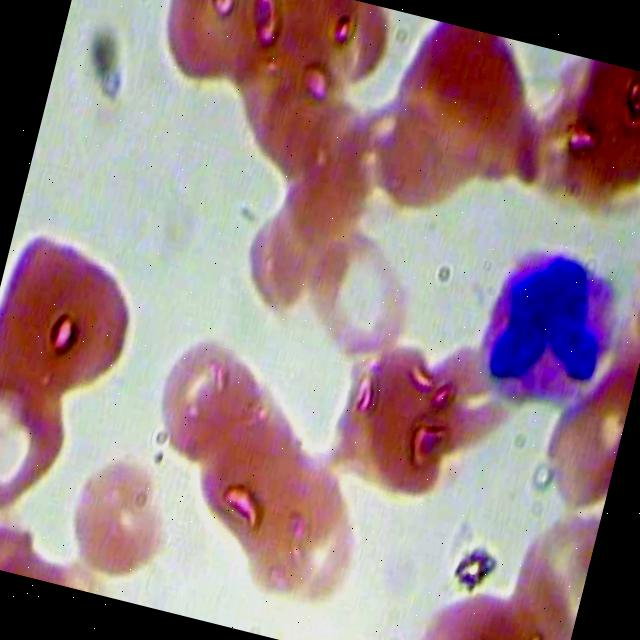RBC: (0, 214, 153, 398), (352, 72, 492, 226), (242, 448, 382, 601), (286, 212, 424, 365), (53, 440, 188, 588), (142, 322, 260, 462), (145, 0, 284, 107), (524, 386, 628, 518), (0, 362, 81, 515), (0, 500, 53, 580)
WBC: (455, 225, 640, 423)
